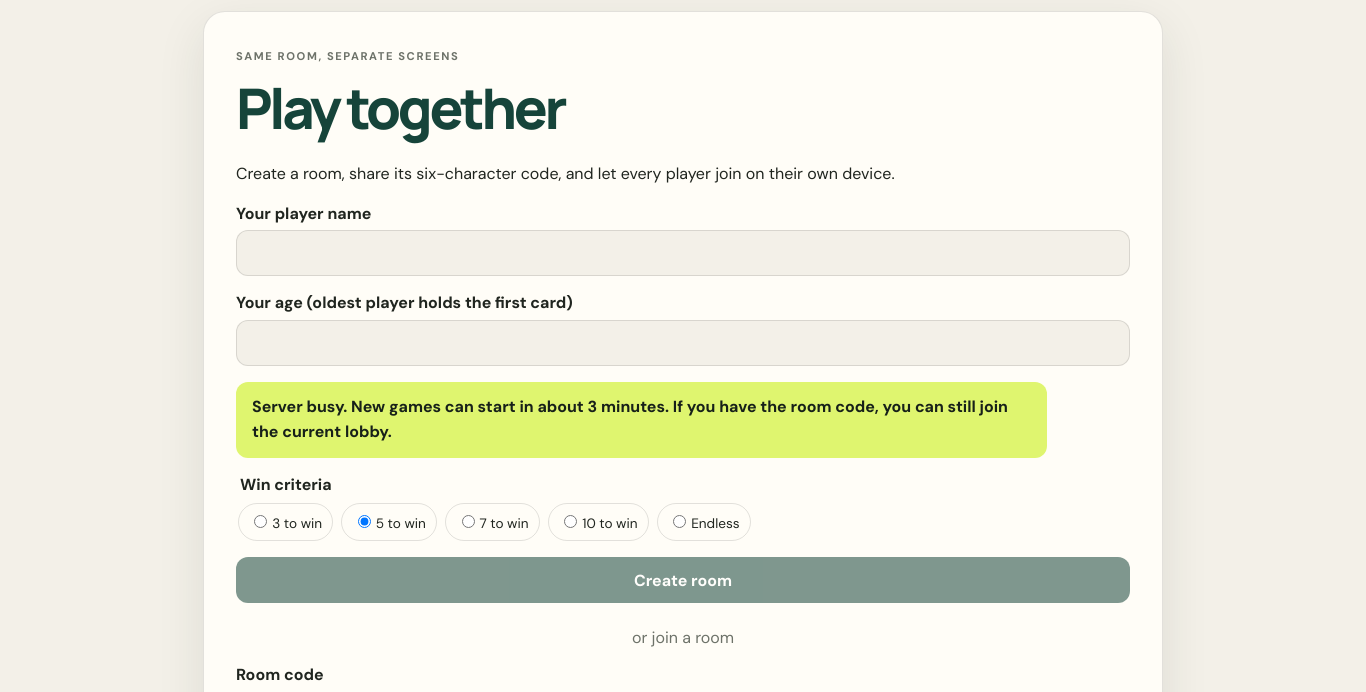
Test case: shows a server-busy retry estimate and allows joining by code
The width and height of the screenshot is (1366, 692).
Expected: the text "Server busy" is shown, [252, 396, 584, 417]
Expected: the text "3 minutes" is shown, [588, 396, 665, 417]
Type "Ada" into the field labelled "Your player name" at (683, 253), box [236, 230, 1130, 276]
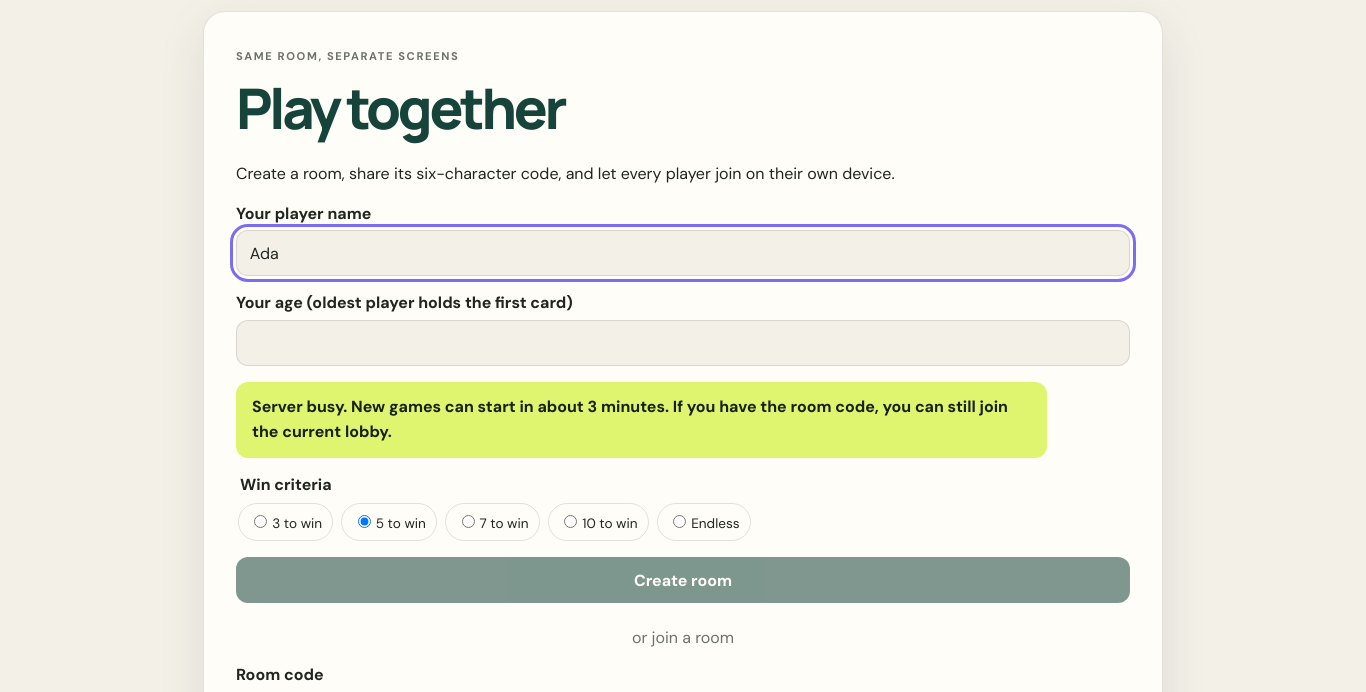
Type "40" into the number field labelled "Your age (oldest player holds the first card)" at (683, 343), box [236, 320, 1130, 366]
(page scrolled)
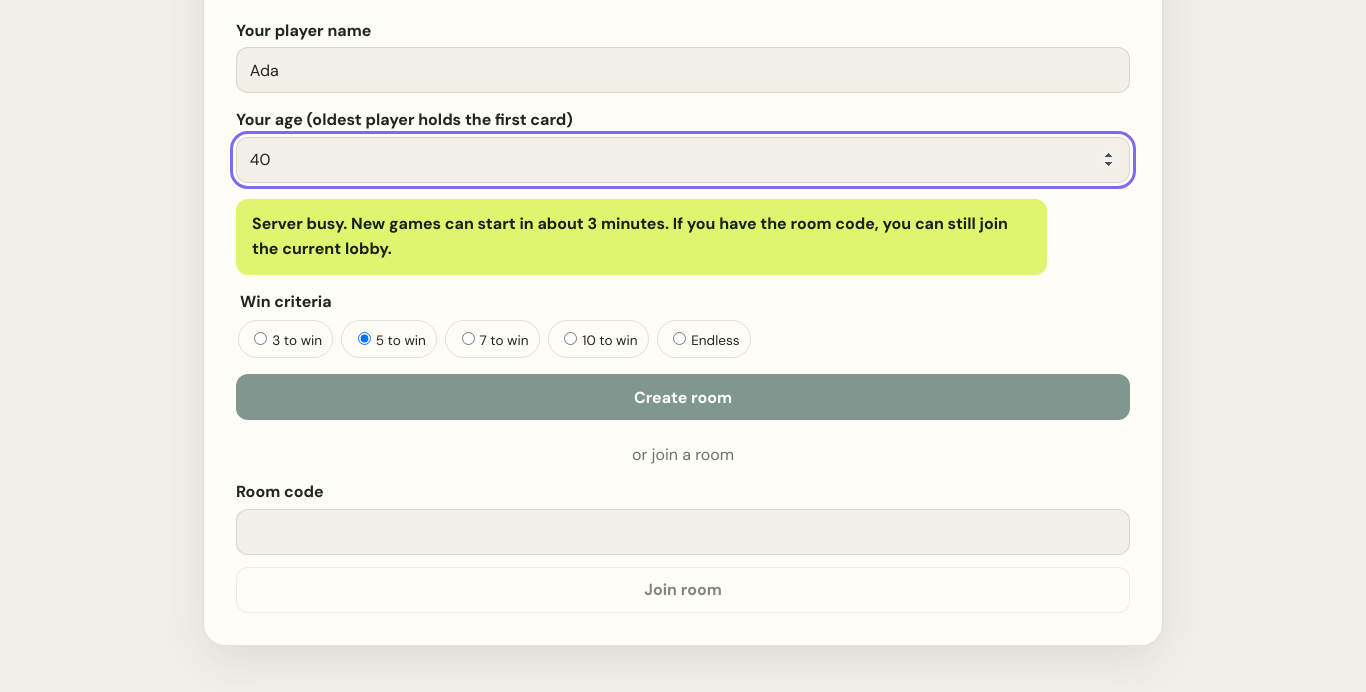
Type "a1b2c3" into the field labelled "Room code" at (683, 532), box [236, 509, 1130, 555]
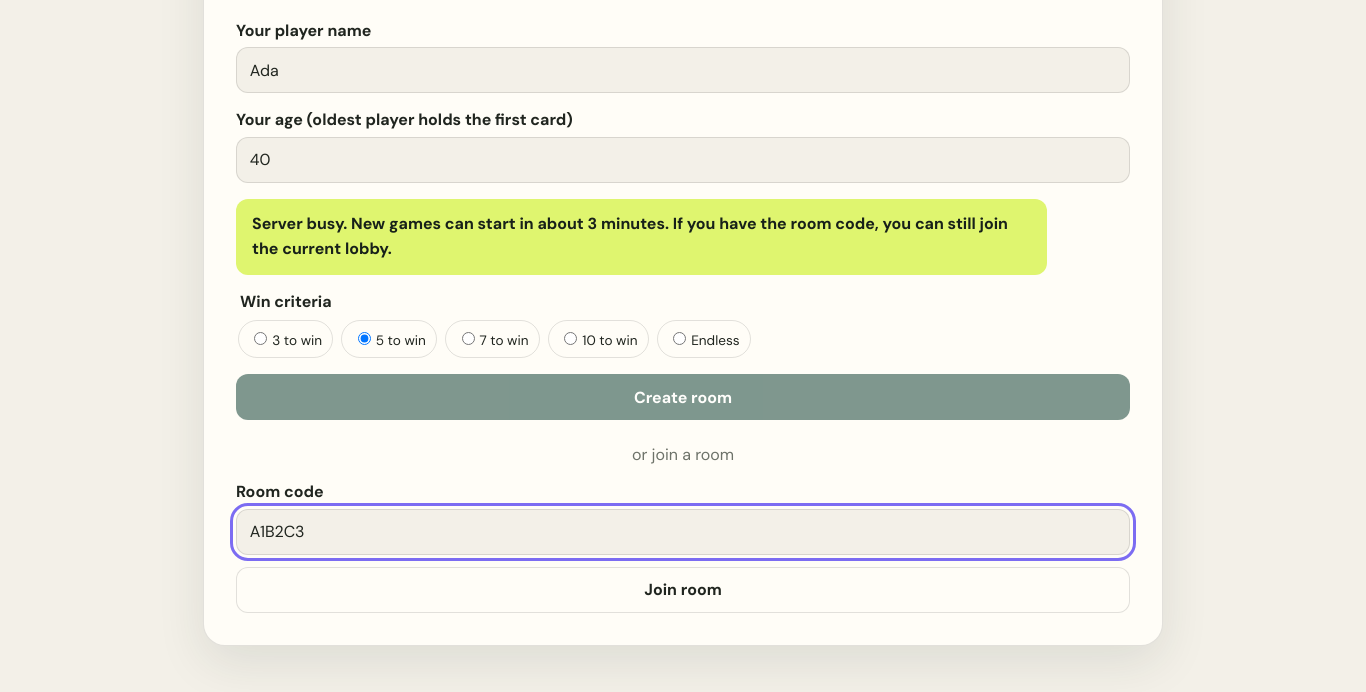
Click the button "Join room" at (683, 590), box [236, 567, 1130, 613]
(page scrolled)
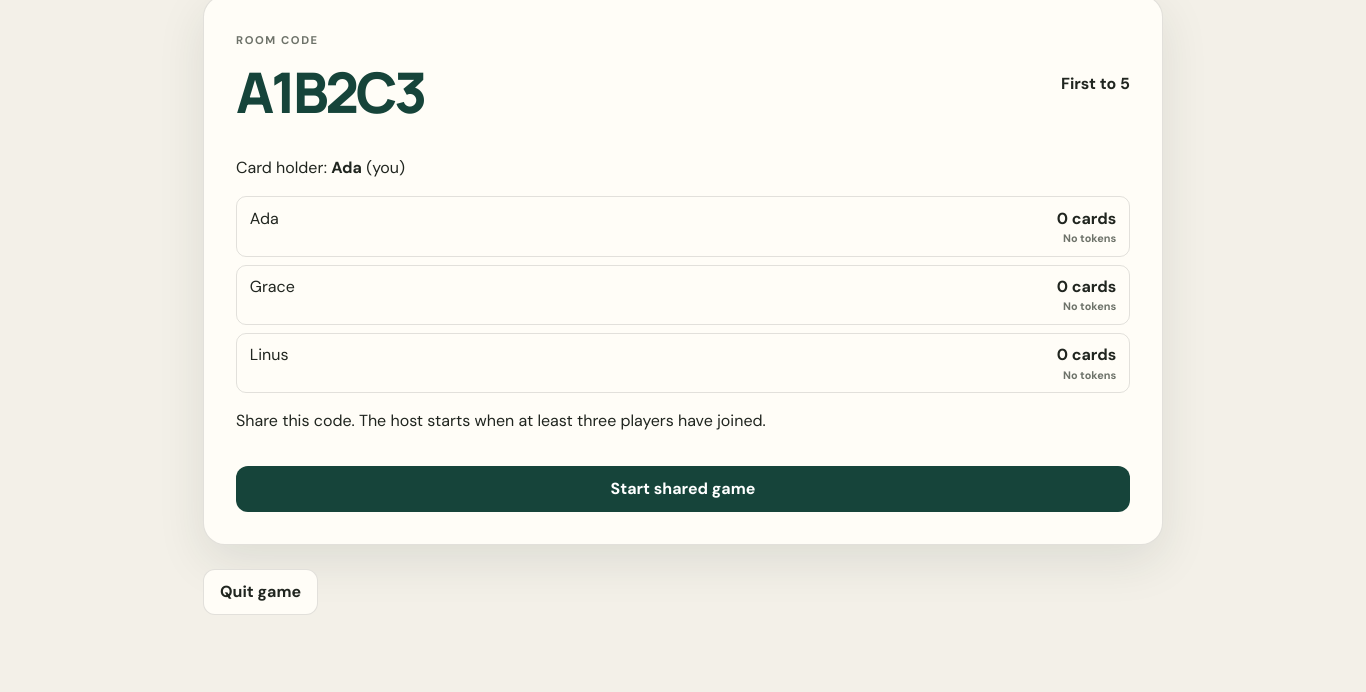
Expected: the heading "A1B2C3" is shown, [236, 53, 424, 130]
